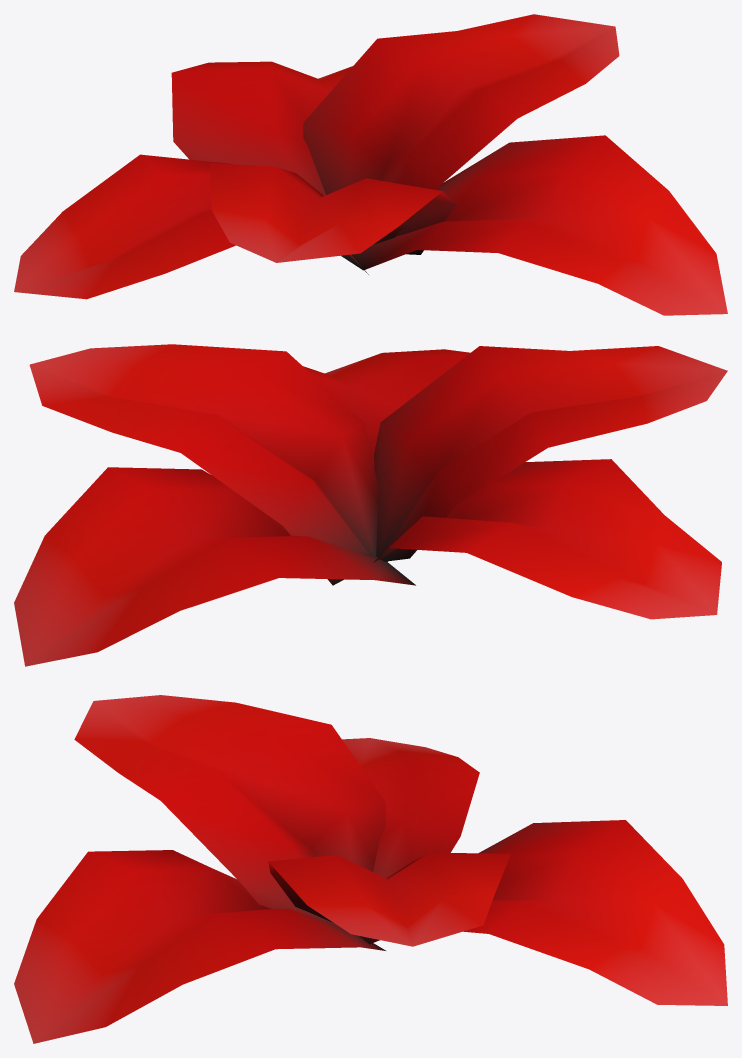
File: Fougere_03.fbx
The picture shows the model from 3 angles, top to bottom: view 1: azimuth 30°, elevation 25°; view 2: azimuth 150°, elevation 25°; view 3: azimuth 270°, elevation 25°; orthographic projection. The views are drawn at different scales.
Parts seen in each view (by area): view 1: Fougere_03; view 2: Fougere_03; view 3: Fougere_03.
Boxes of the visible parts, box(x1,y1,x2,y2) form: Fougere_03: box(14, 14, 727, 315); Fougere_03: box(14, 344, 727, 666); Fougere_03: box(14, 695, 727, 1043).
Bounding box in the file's own units: 313 × 66.87 × 307.
